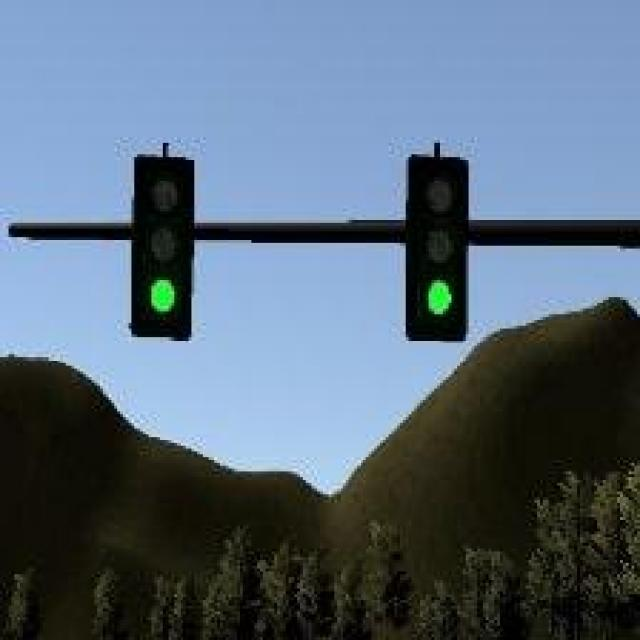green_light: (132, 157, 198, 337), (409, 154, 472, 340)
